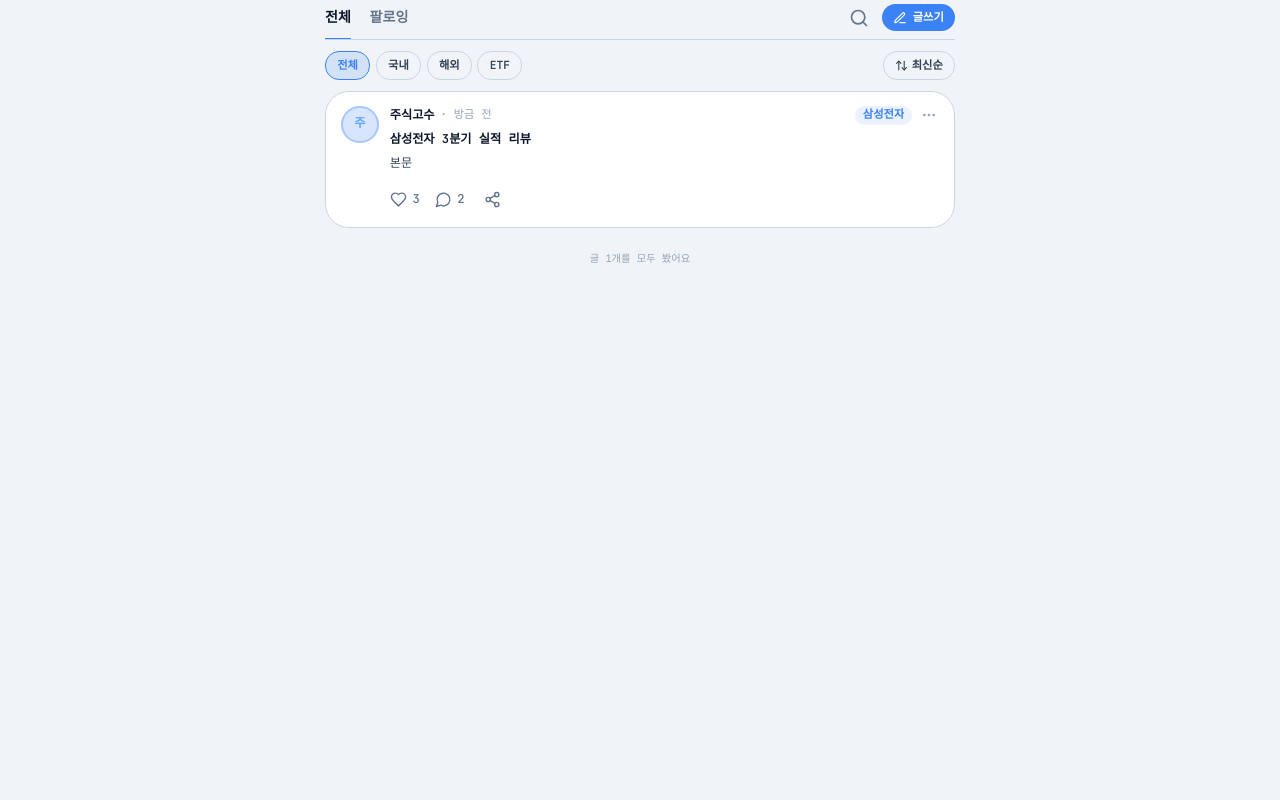
Test: 6 — ⋯ 메뉴 › 남의 글 — 링크 복사·신고. 신고는 사유를 골라 보낸다
Click the button named "글 메뉴": x=929, y=115 x1=916 y1=102 x2=943 y2=129
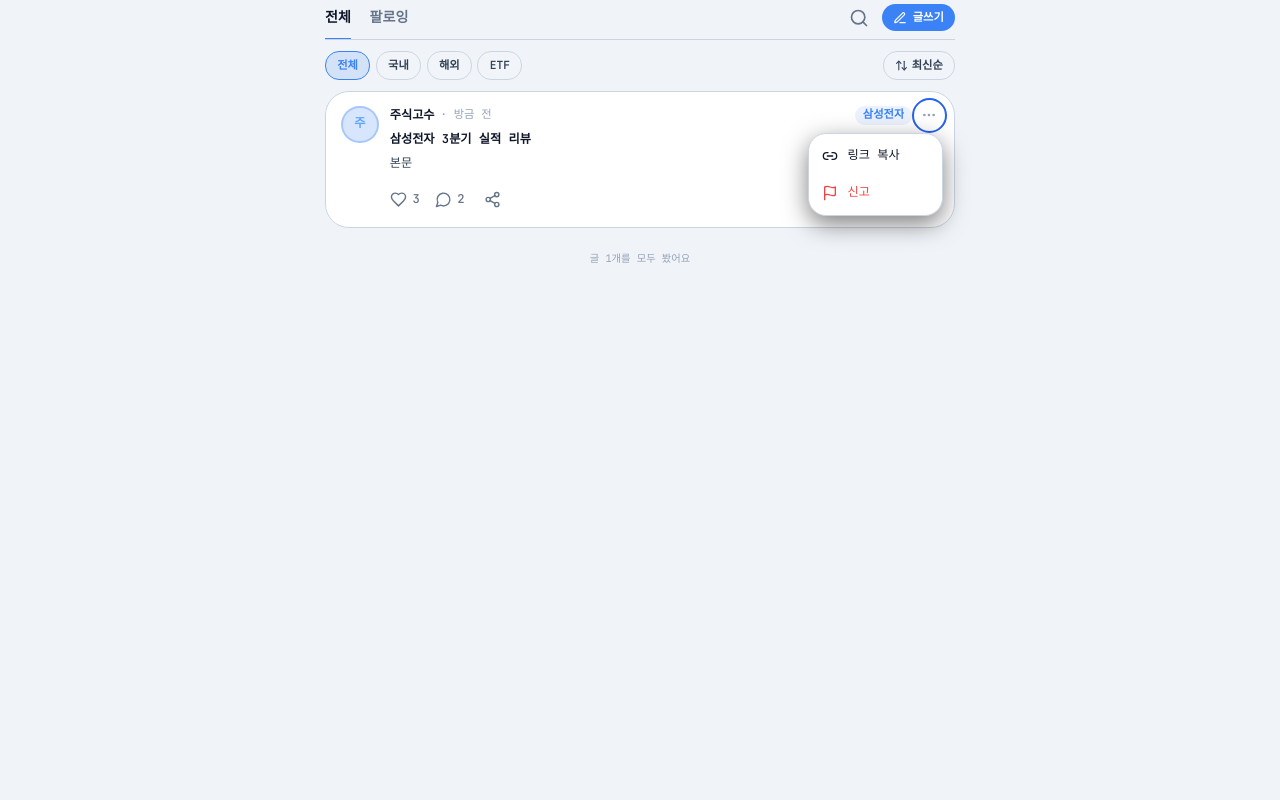
Click the menu item "신고": x=875, y=193 x1=809 y1=174 x2=942 y2=211
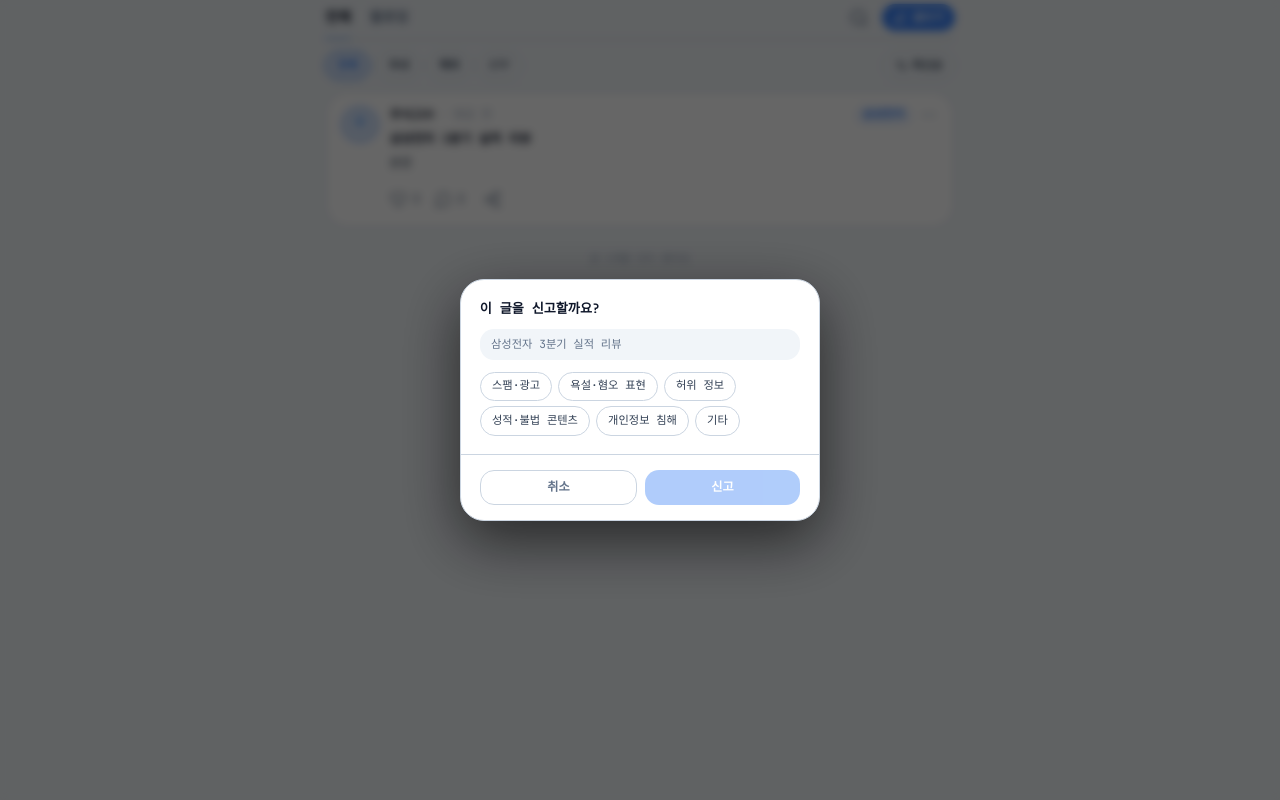
Click the radio button labelled "스팸·광고": x=516, y=386 x1=480 y1=372 x2=552 y2=401
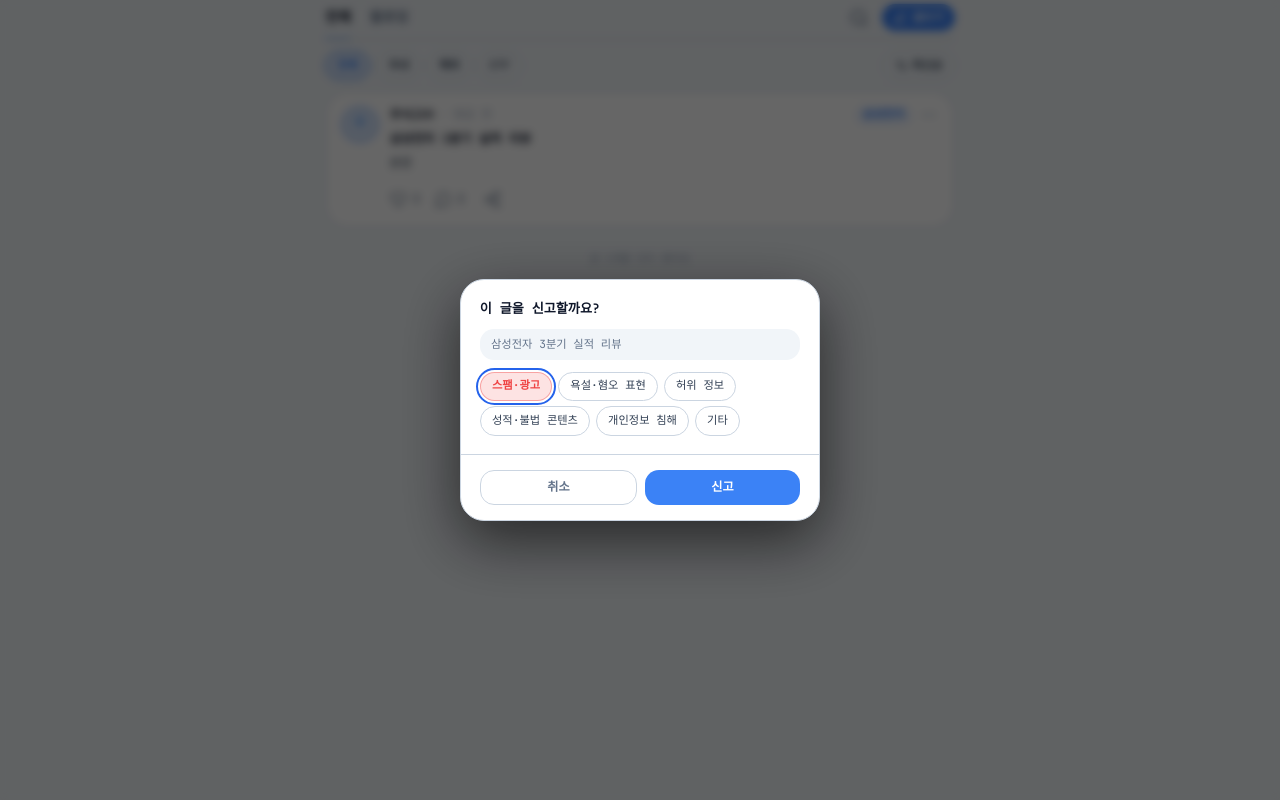
Click the button "신고": x=723, y=488 x1=645 y1=470 x2=800 y2=505
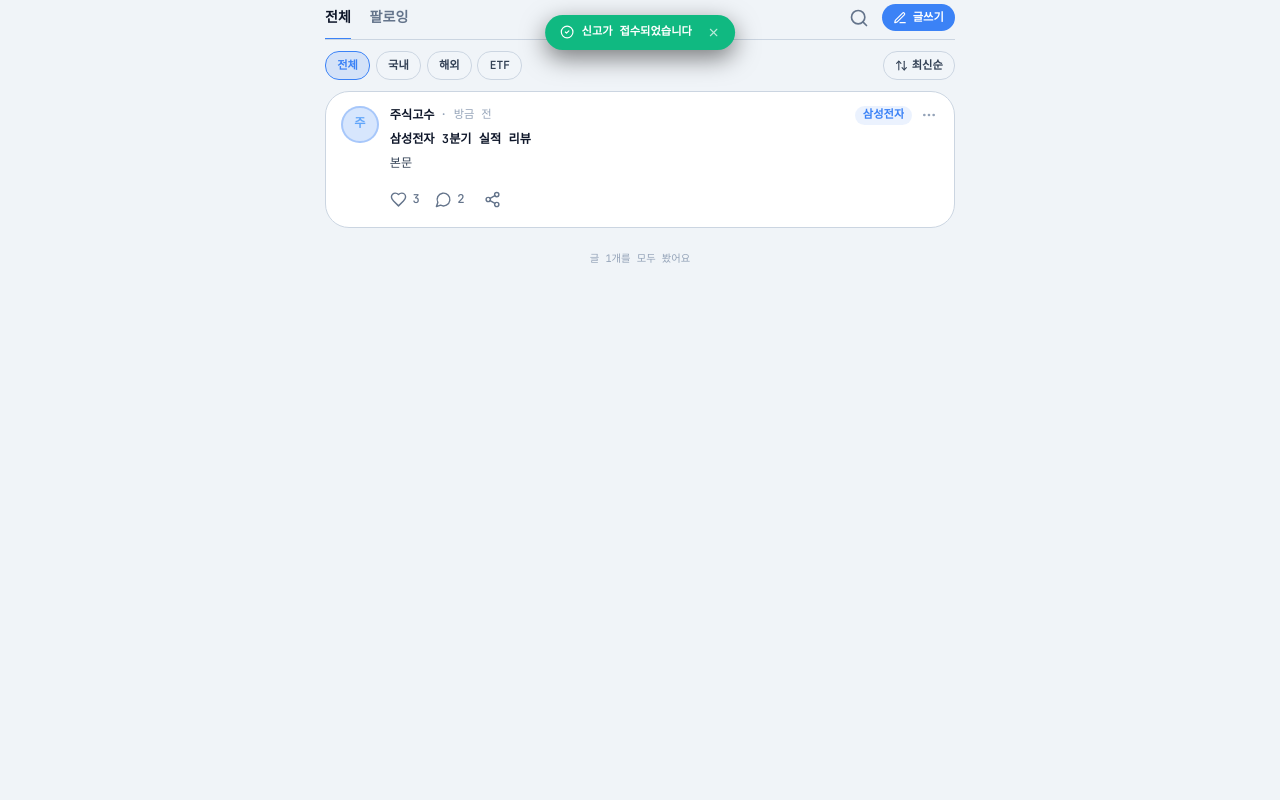
Now the text "신고가 접수되었습니다" is shown, box x1=582 y1=24 x2=692 y2=40
